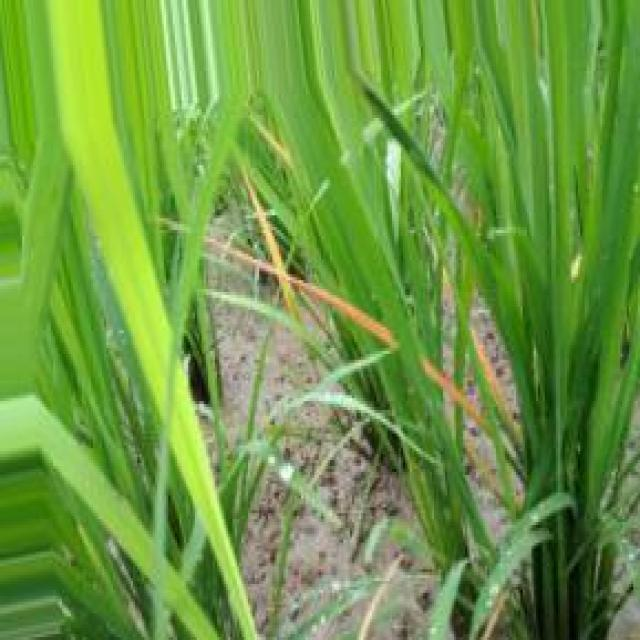Rice Tungro: (206, 238, 394, 346), (242, 171, 300, 320), (290, 276, 394, 346), (471, 330, 520, 441), (421, 358, 484, 426)
